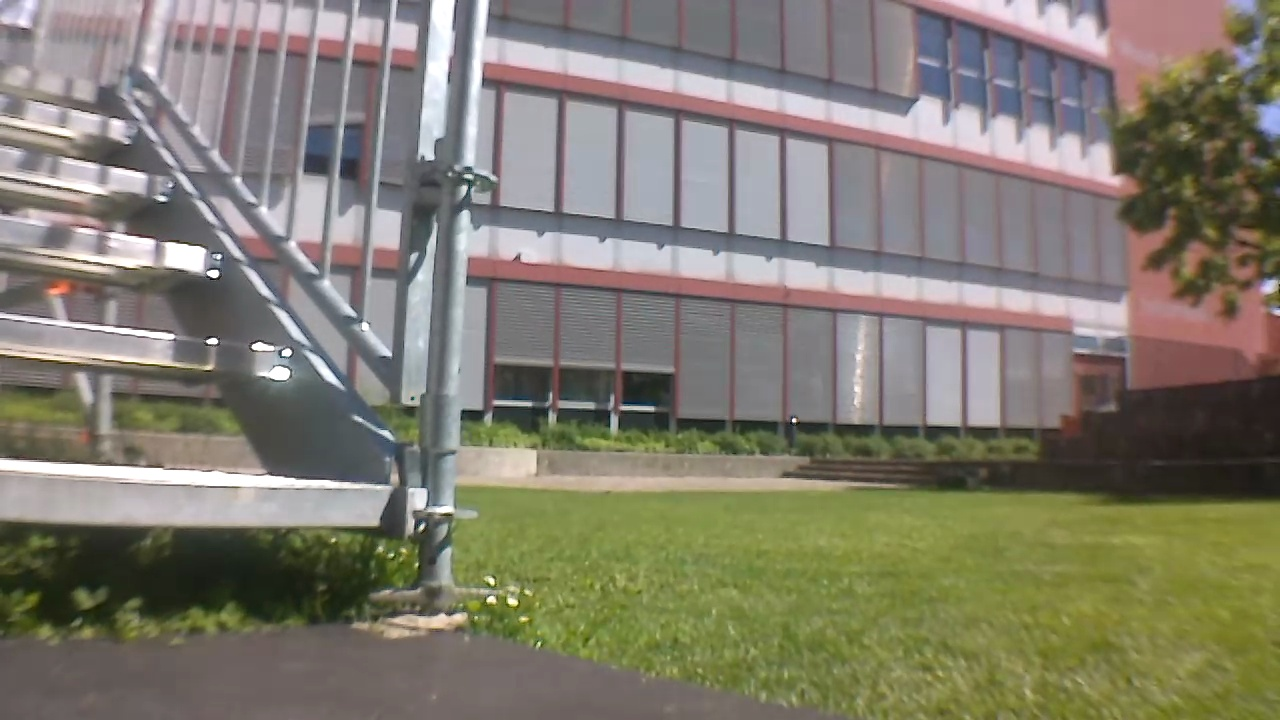edge: (0, 465, 412, 543), (0, 321, 314, 375), (0, 230, 244, 269)
